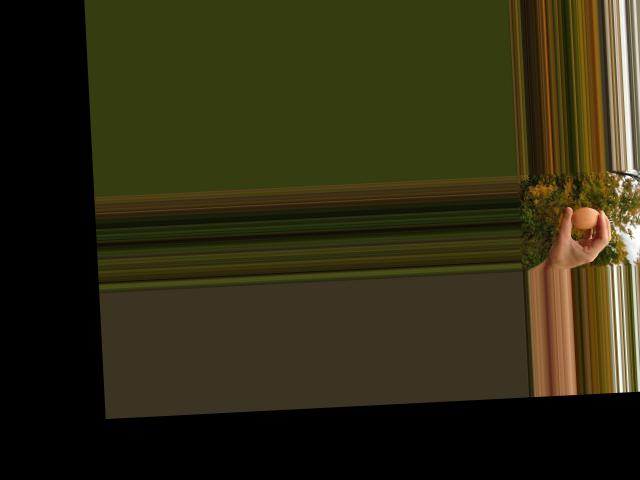egg: (570, 206, 600, 229)
